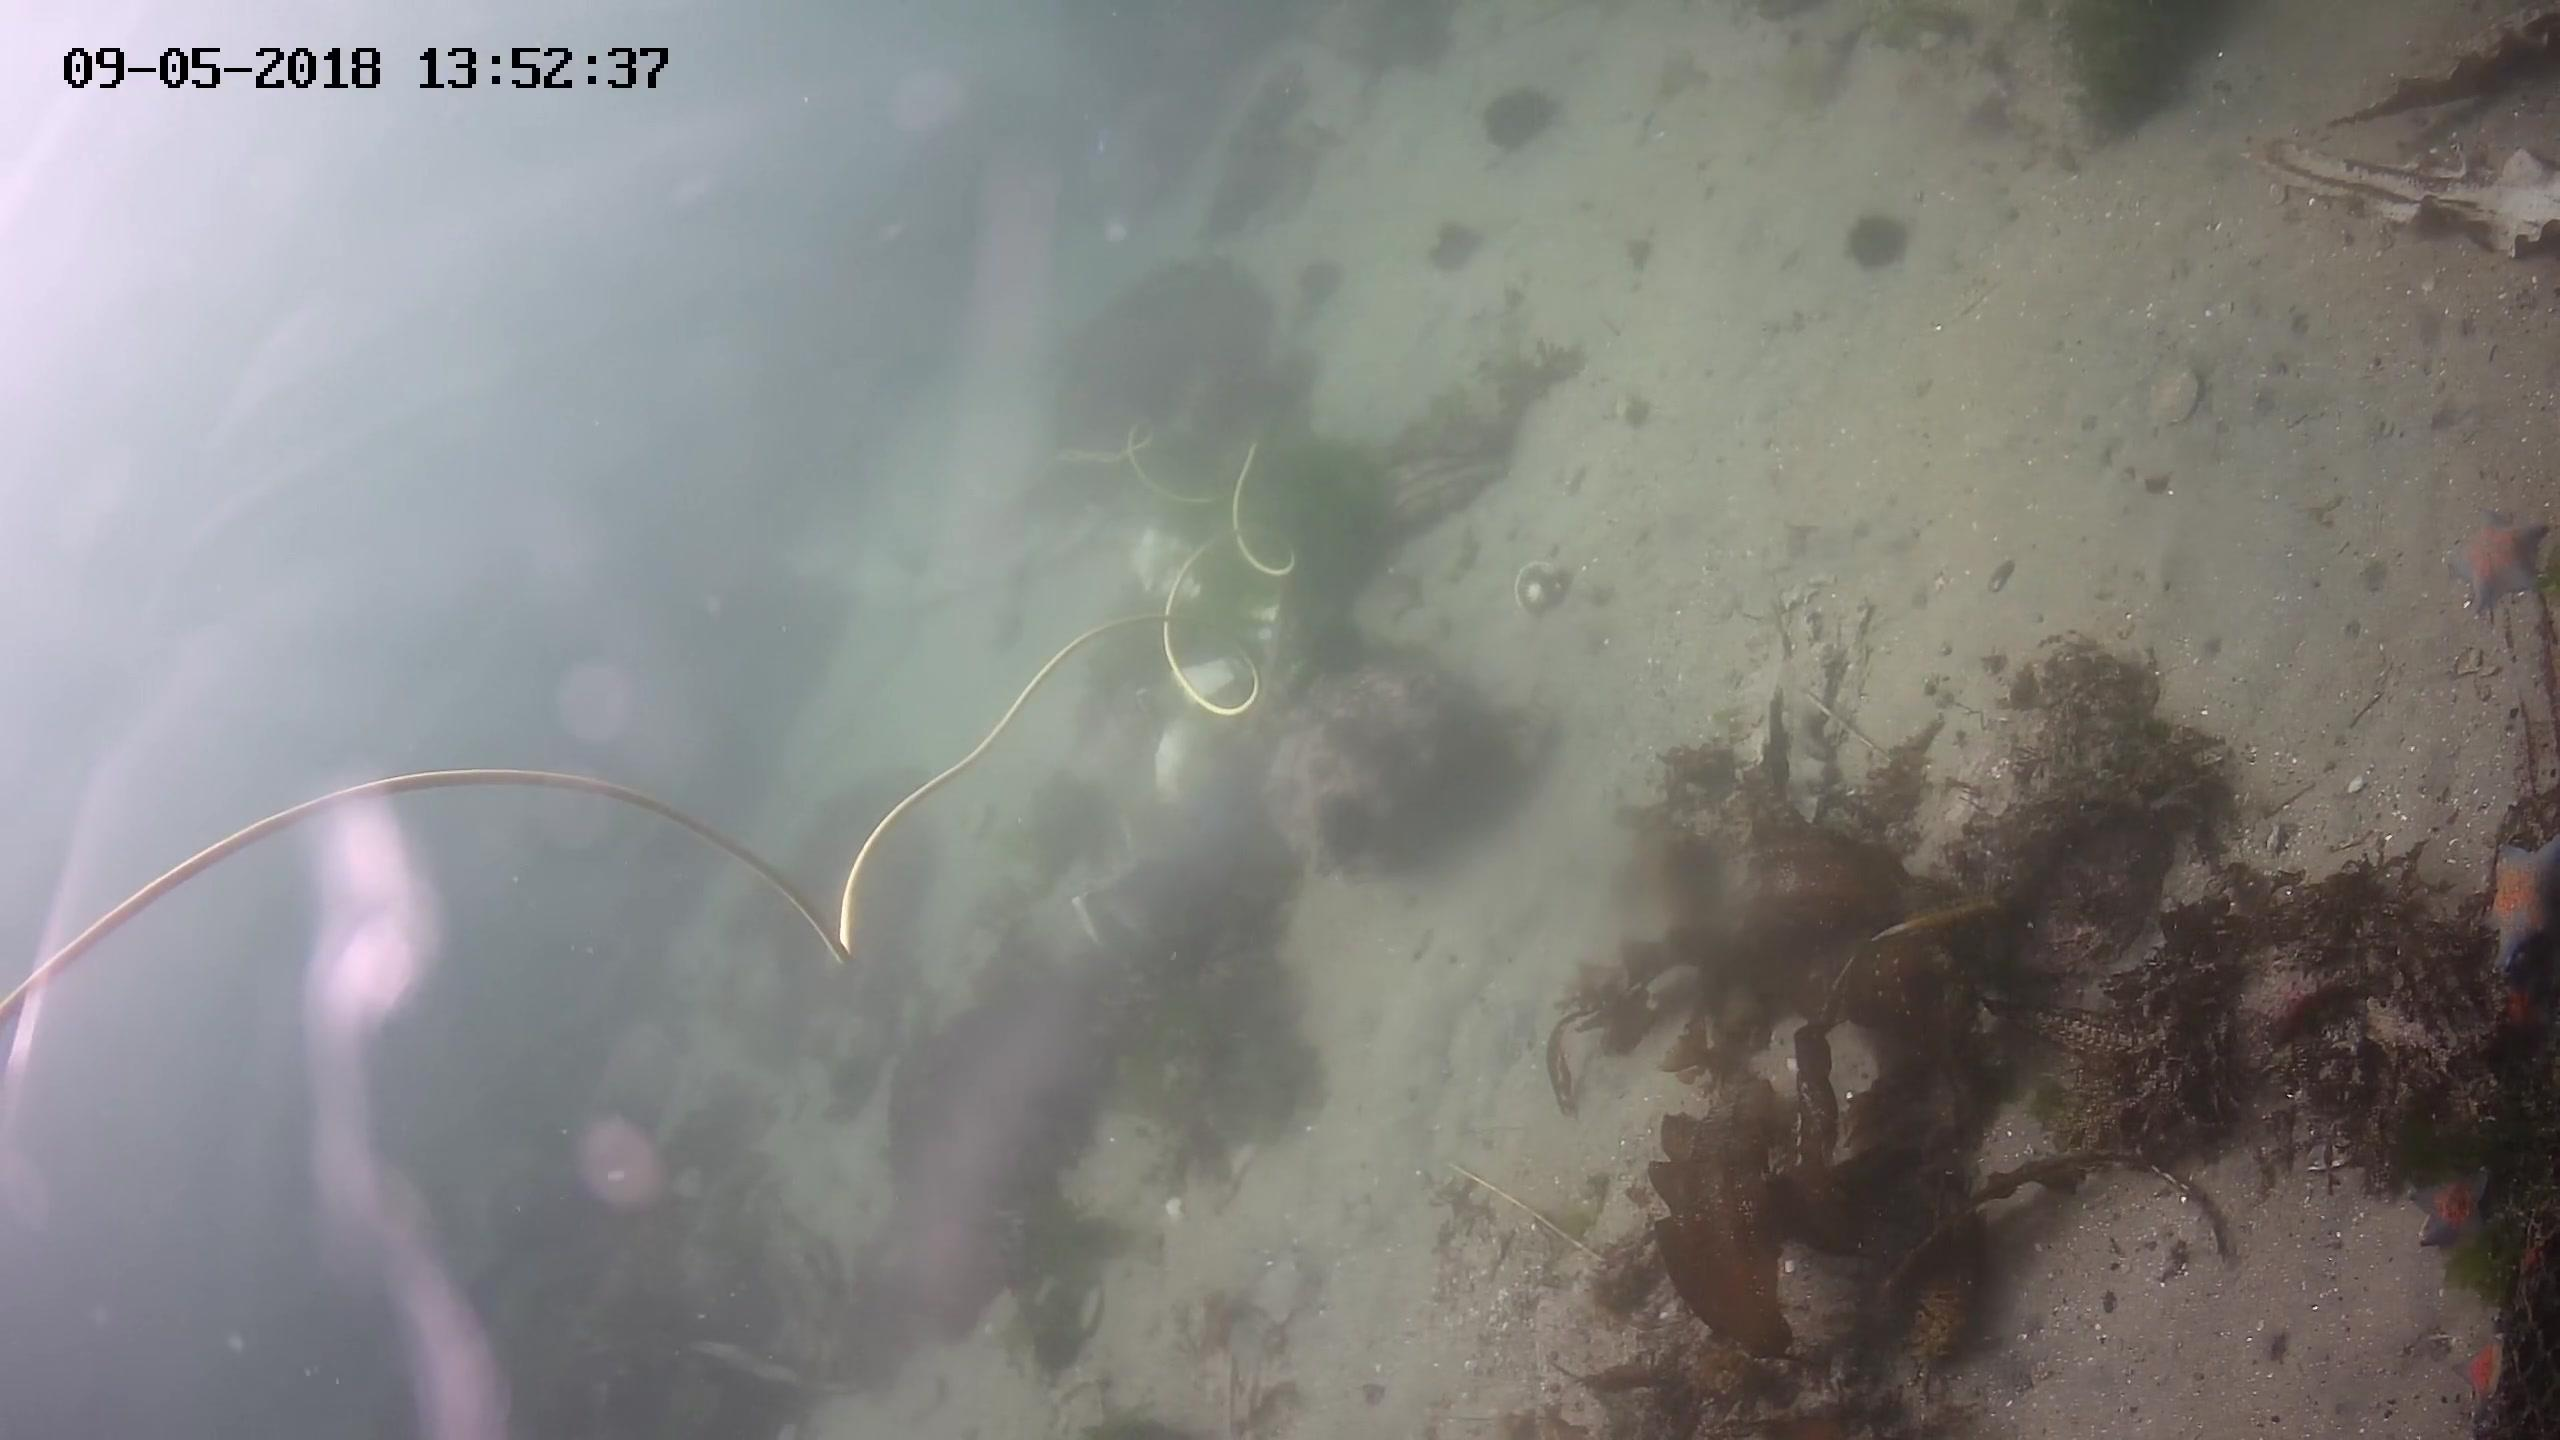echinus: (1466, 86, 1560, 148), (1839, 207, 1916, 267)
scallop: (2135, 359, 2212, 418), (1509, 566, 1581, 619)
starfish: (2470, 835, 2560, 958), (2442, 512, 2553, 596), (2442, 1324, 2525, 1417), (2411, 1162, 2490, 1248), (2497, 974, 2555, 1043)
